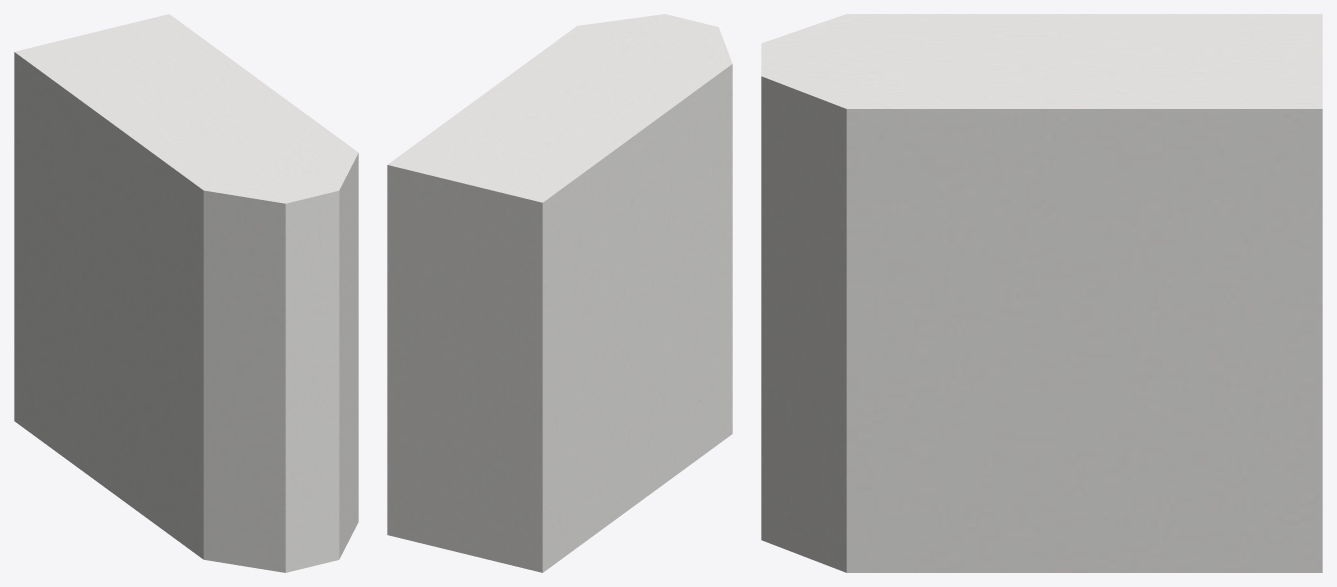
Rendered from WhiteShelfThing.fbx.
3 views of the same model, side by side, from view 1: azimuth 30°, elevation 25°; view 2: azimuth 150°, elevation 25°; view 3: azimuth 270°, elevation 25° (orthographic). The views are drawn at different scales.
Visible parts, largest first — view 1: Cube; view 2: Cube; view 3: Cube.
Boxes of the visible parts, box(x1,y1,x2,y2) form: Cube: box(14, 14, 358, 572); Cube: box(387, 14, 732, 572); Cube: box(761, 14, 1322, 572).
Bounding box in the file's own units: 56.21 × 128 × 140.
